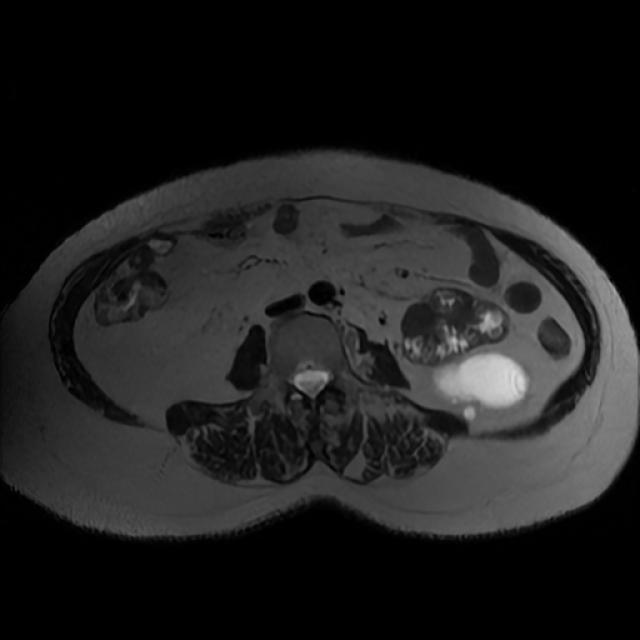sol: (436, 353, 528, 420)
